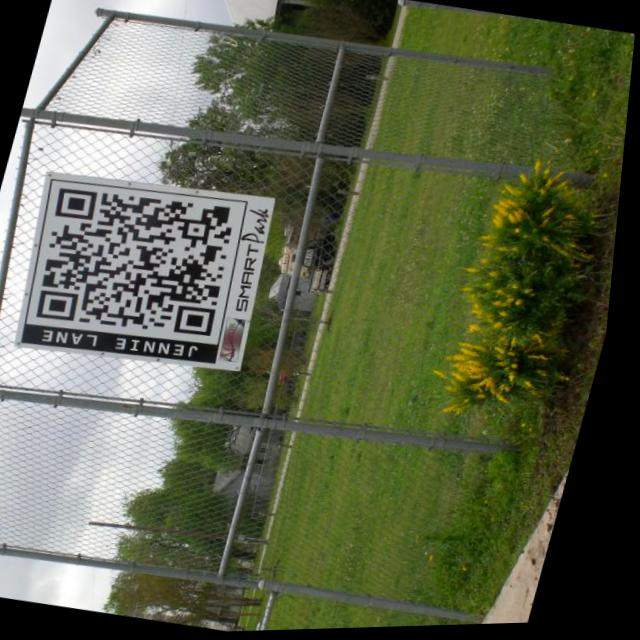qrcode: (31, 179, 251, 348)
